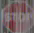Stop: (1, 3, 32, 32)
